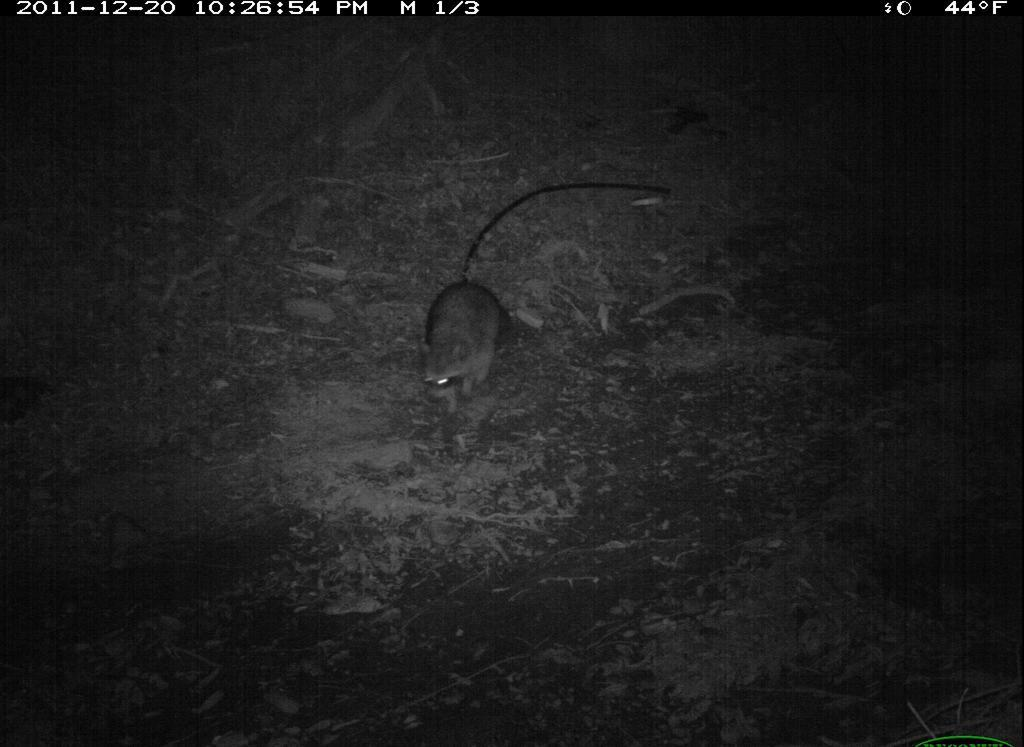raccoon: (393, 260, 552, 443)
